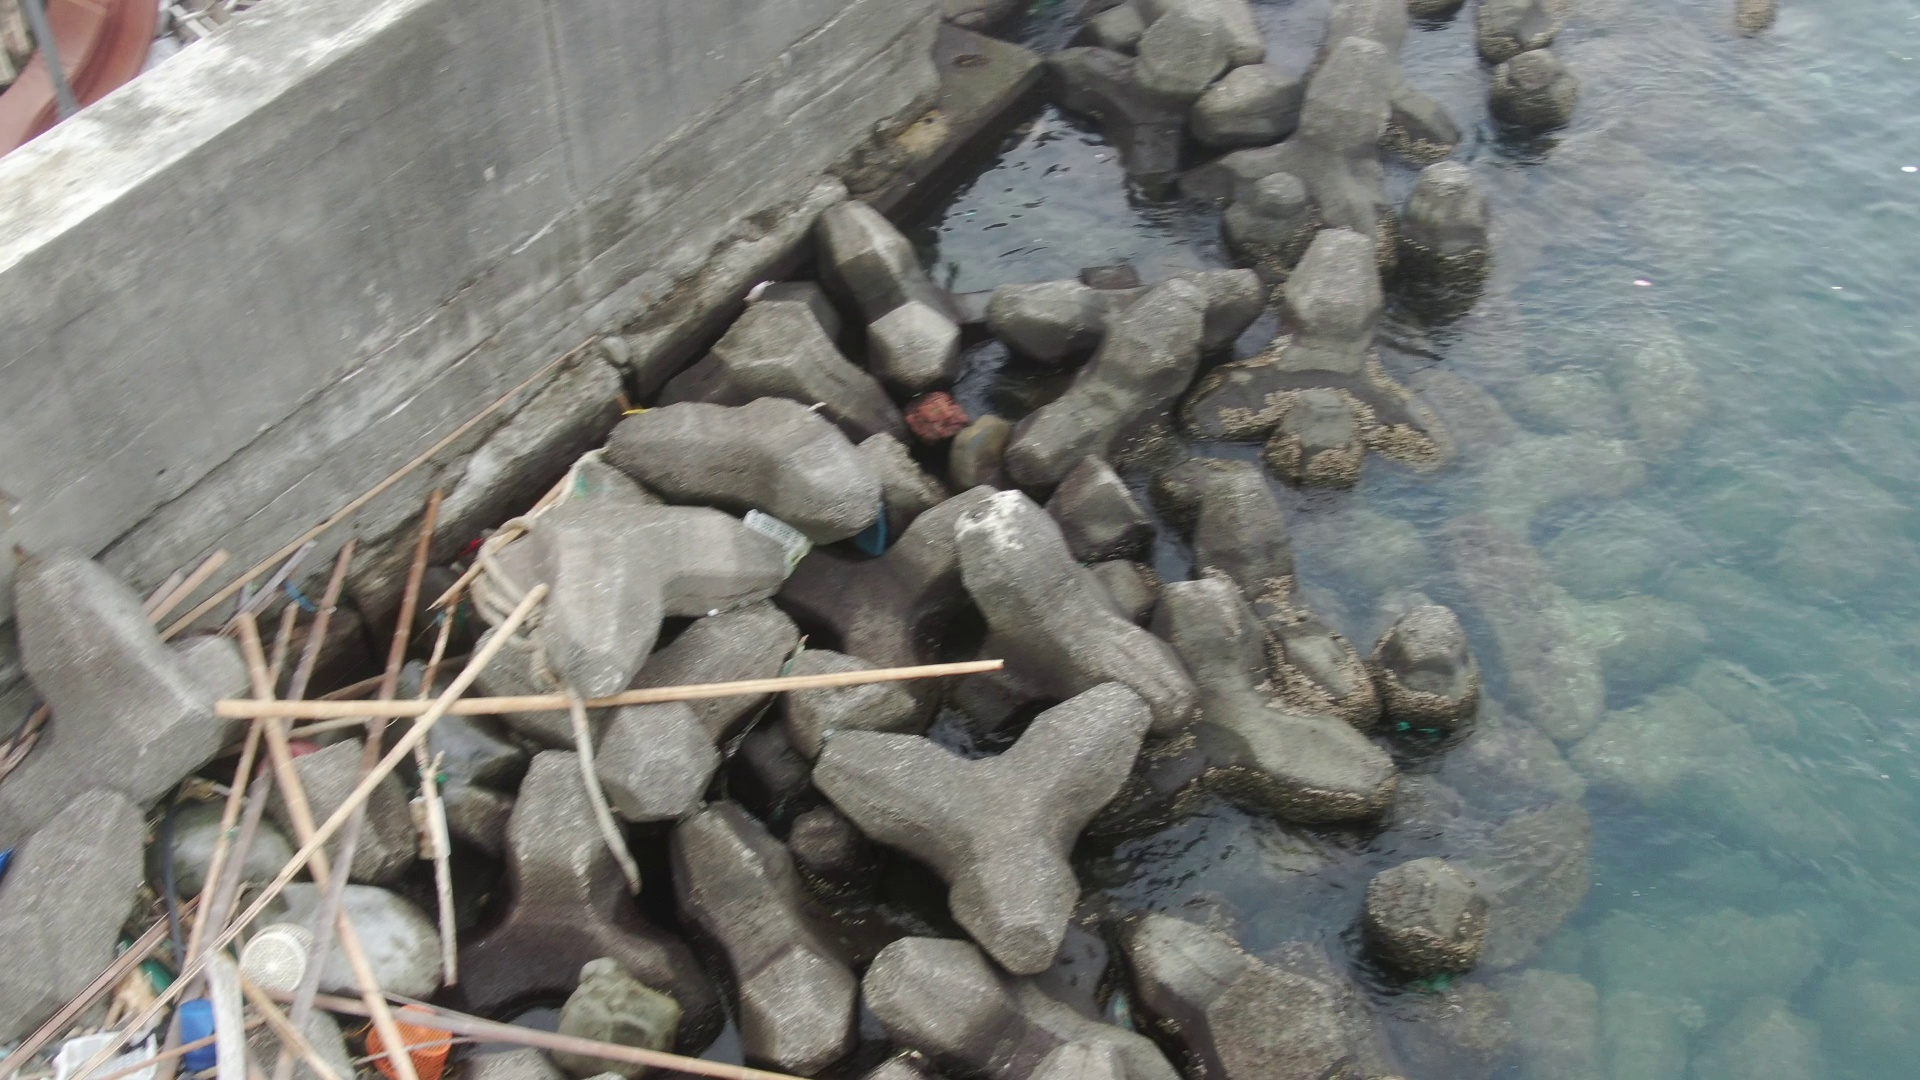garbage: (54, 926, 324, 1080), (353, 1001, 469, 1077), (712, 517, 825, 574), (404, 783, 464, 866), (843, 502, 909, 564)
